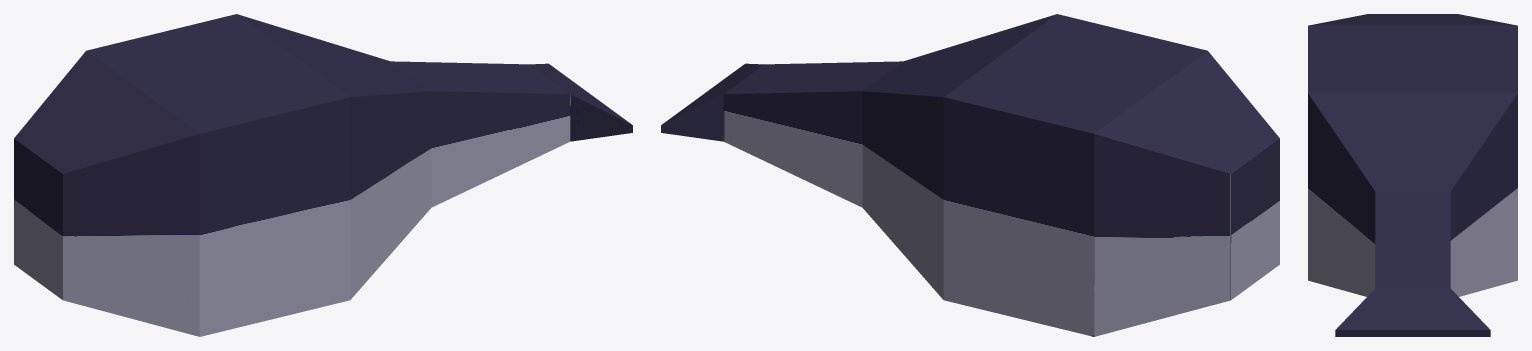
The model's file is improvisedWhale2.obj.
3 renders of one model, left to right at view 1: azimuth 30°, elevation 25°; view 2: azimuth 150°, elevation 25°; view 3: azimuth 270°, elevation 25°, orthographic. The views are drawn at different scales.
Parts seen in each view (by area): view 1: 立方体; view 2: 立方体; view 3: 立方体.
Part boxes in pixels (x1=…): 立方体: x1=14, y1=14, x2=632, y2=336; 立方体: x1=661, y1=14, x2=1279, y2=336; 立方体: x1=1308, y1=14, x2=1517, y2=336.
Bounding box in the file's own units: 8.59 × 3.02 × 3.06.
2 materials, 1 textured.
